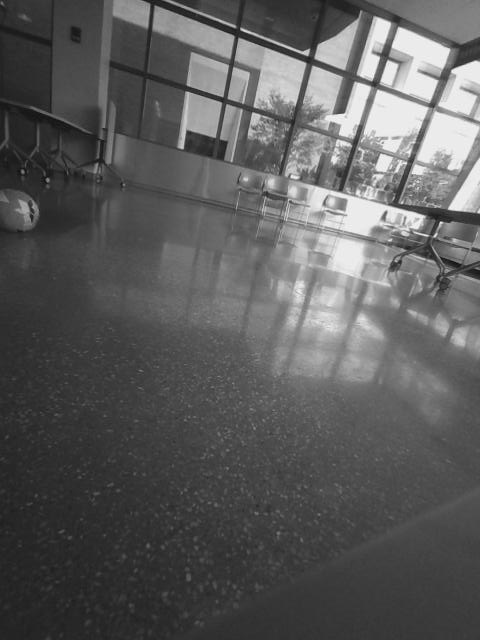ball: (2, 182, 44, 236)
